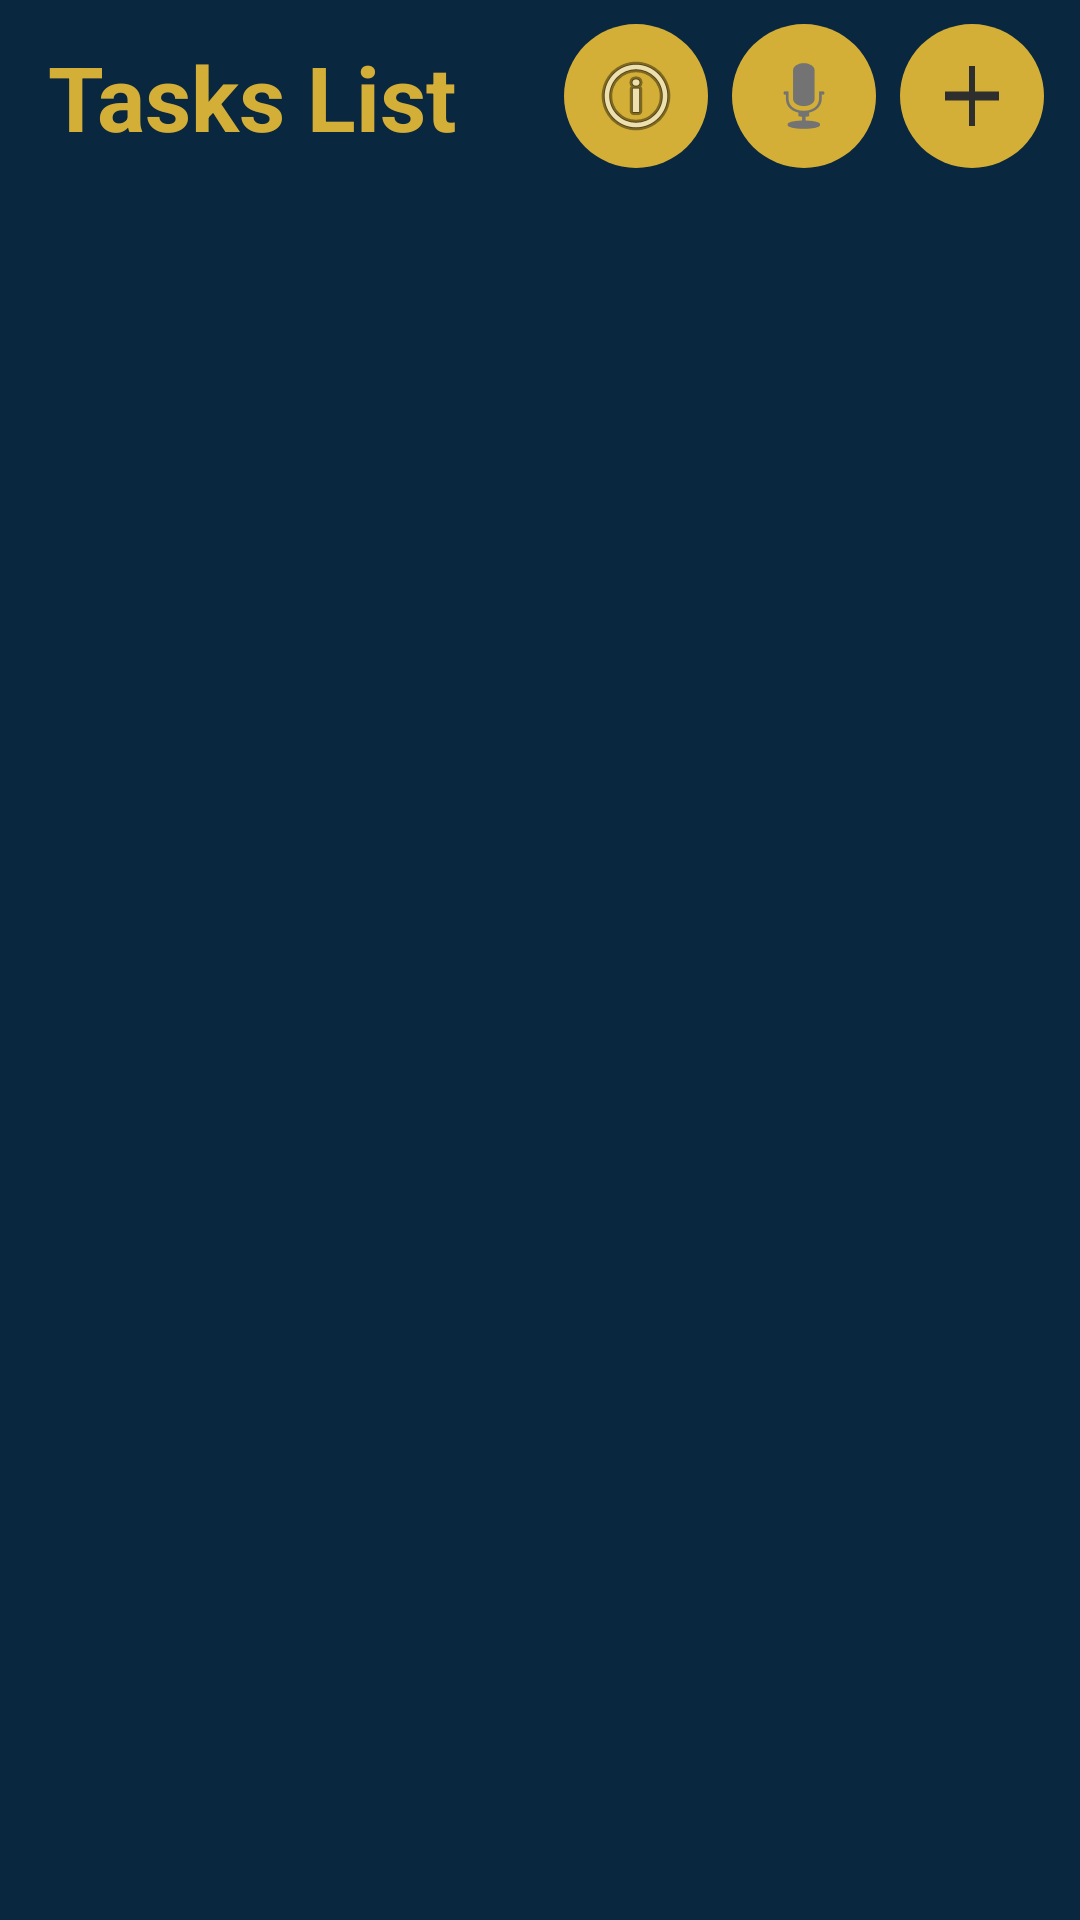

Named icons in this screenshot (1080*1920) and their bounding boxes, (x1, y1, x2, y2):
add task: (900, 24, 1044, 168)
help: (564, 24, 708, 168)
voice add task: (732, 24, 876, 168)
